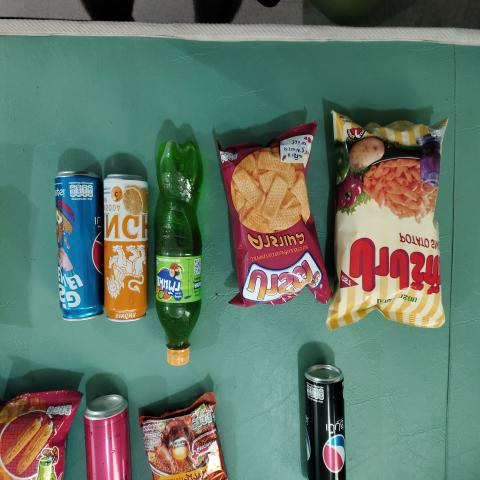fanta_green: (153, 142, 201, 368)
paprika: (342, 125, 442, 315)
party_red: (244, 134, 308, 298)
pepsi_black: (304, 360, 346, 480)
pepsi_blue: (59, 174, 98, 315)
singha_yellow: (100, 173, 146, 320)
